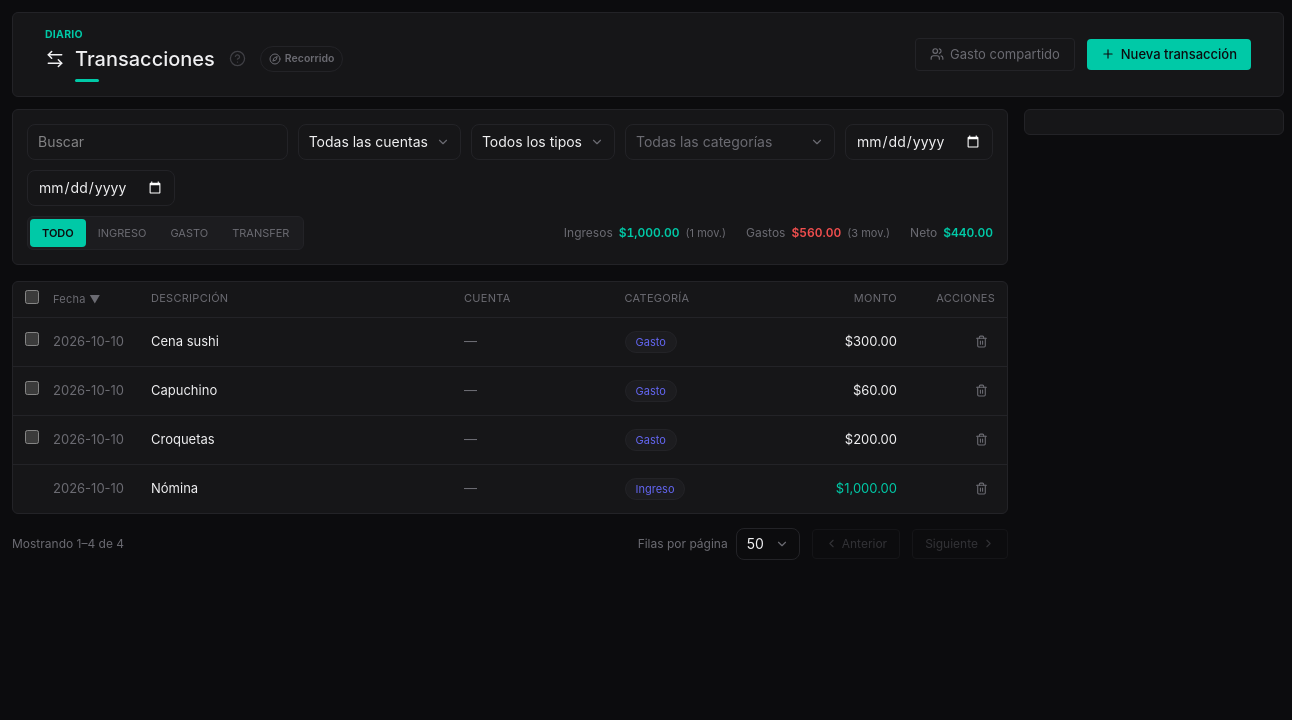
Test: Transactions filters › counts the active filters and clears all of them with one click
This screenshot has width=1292, height=720.
Type "sushi" into the field with placeholder "Buscar" at (157, 142), box [27, 124, 288, 160]
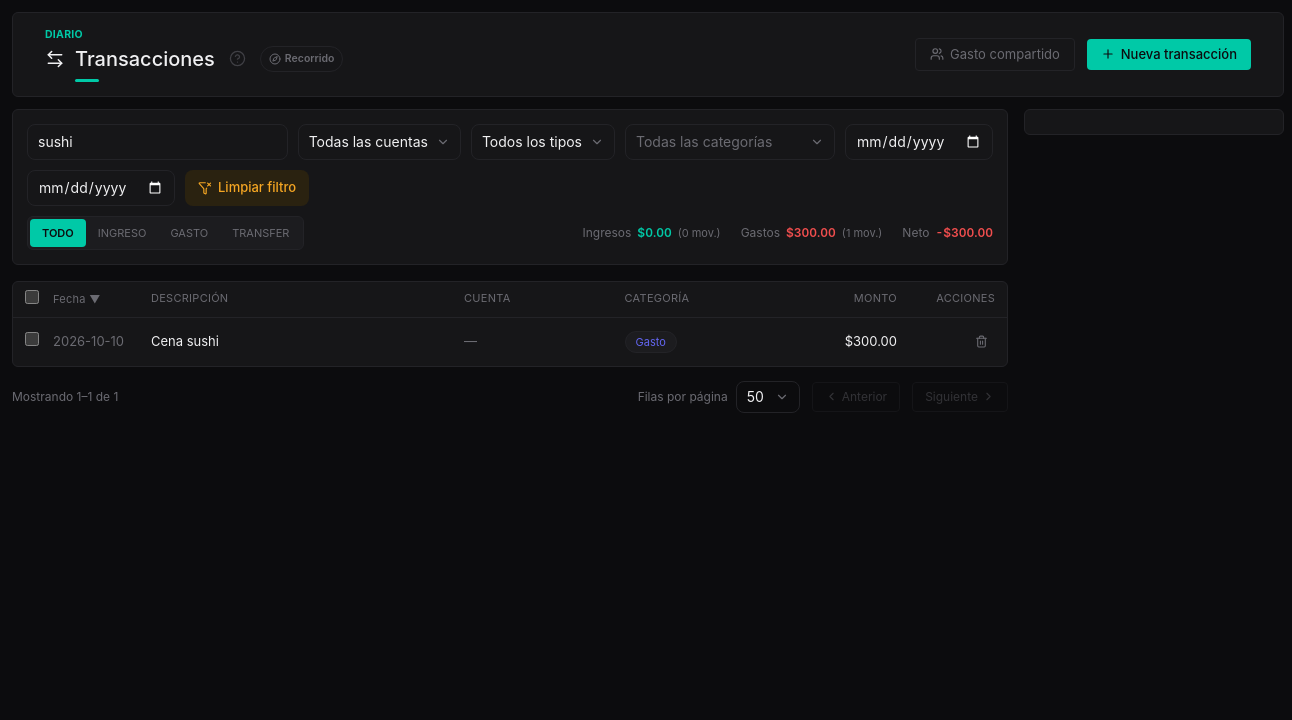
Click the button "GASTO" at (189, 233), box [158, 219, 220, 247]
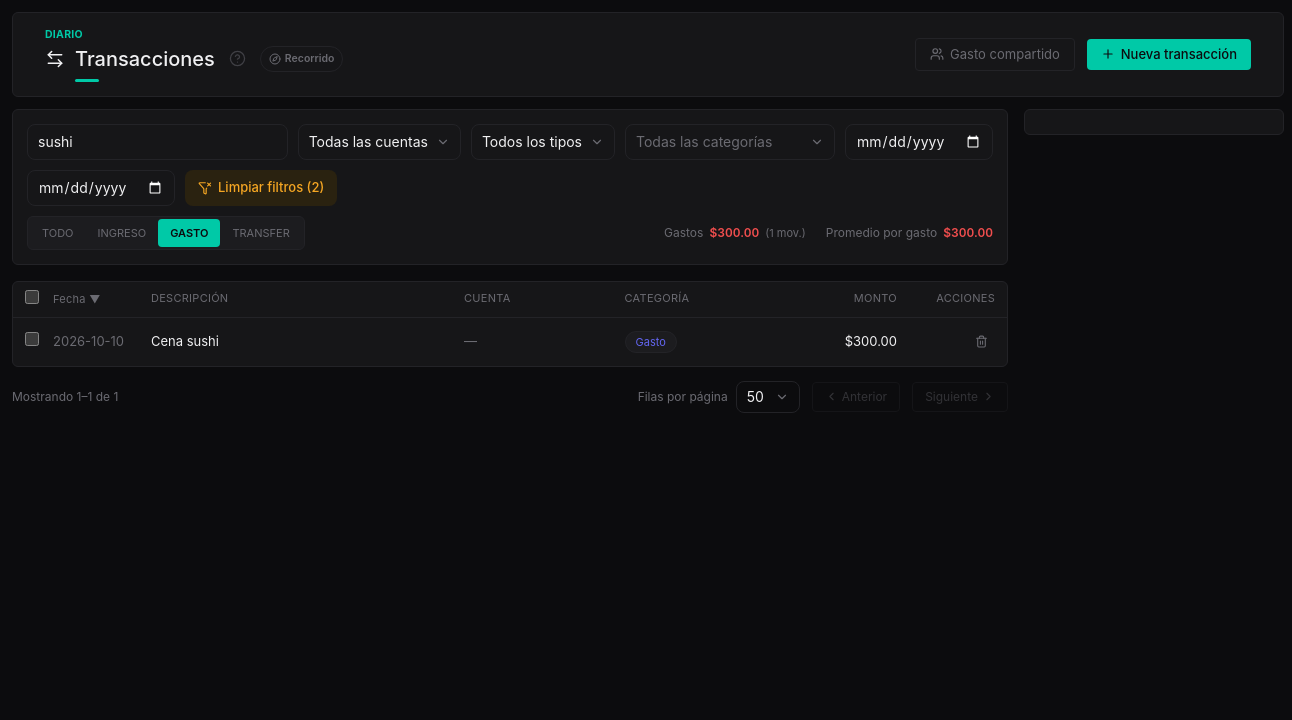
Result: the button with test id "clear-filters" reads "Limpiar filtros (2)"
Click the button with test id "clear-filters" at (261, 188), box [185, 170, 337, 206]
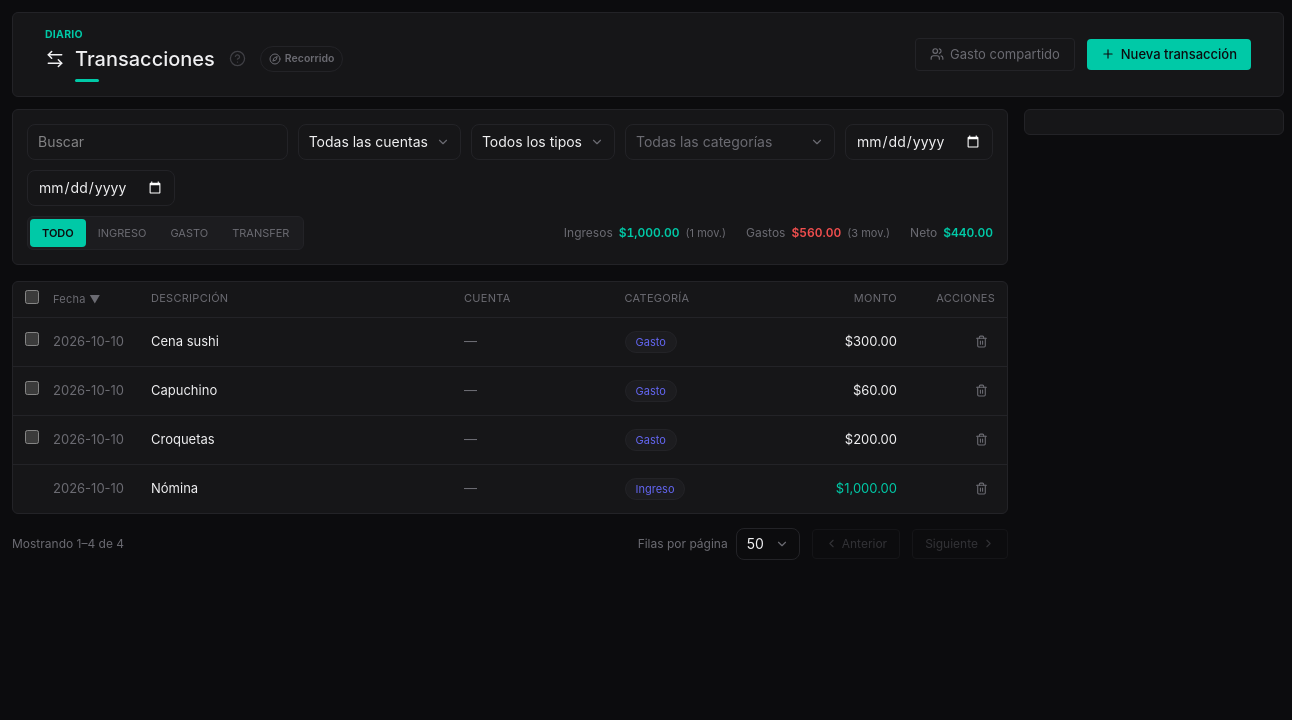
Result: the button with test id "clear-filters" is gone
Result: the field with placeholder "Buscar" is empty at [27, 124, 288, 160]
Result: the text "Nómina" is shown at [151, 479, 198, 498]
